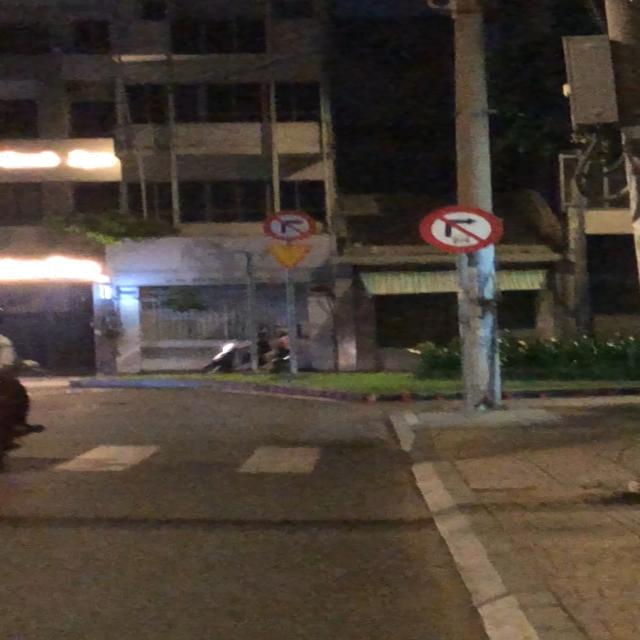Bien bao cam re phai: (264, 210, 316, 240)
Bien bao cam xe o to re phai: (418, 206, 504, 256)
Bien bao giao nhau voi duong uu tien: (262, 242, 319, 269)
